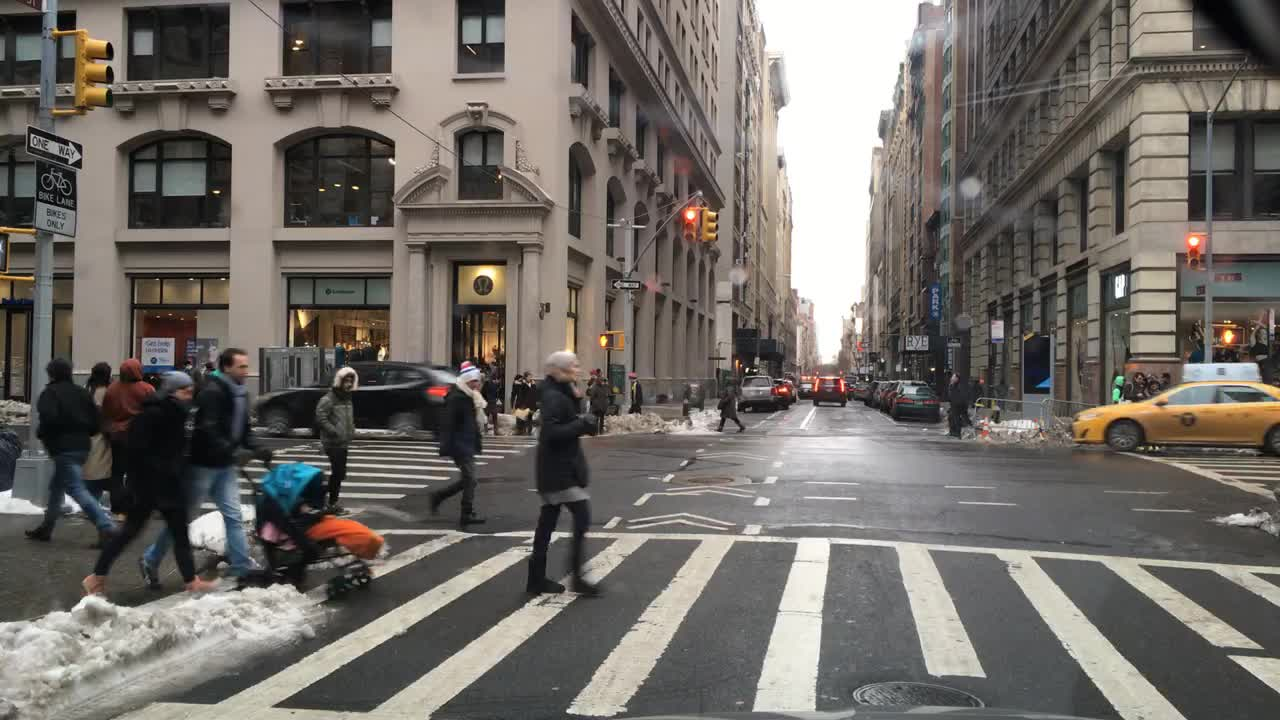bus: (842, 370, 860, 382)
car: (246, 358, 456, 442), (1066, 379, 1279, 457), (68, 368, 205, 455), (891, 378, 942, 424), (733, 372, 777, 411), (884, 377, 925, 415), (811, 373, 847, 409), (874, 381, 900, 411), (868, 378, 889, 409), (777, 376, 795, 401), (851, 381, 873, 401), (797, 378, 815, 400)
person: (79, 367, 223, 602), (136, 346, 274, 590), (21, 355, 122, 551), (522, 349, 600, 594), (423, 359, 490, 525), (95, 355, 154, 520), (313, 365, 359, 517), (79, 359, 113, 515), (715, 378, 745, 434), (943, 369, 966, 439), (480, 374, 504, 437), (515, 370, 536, 434), (1249, 341, 1274, 386), (591, 377, 609, 433), (626, 369, 644, 411), (1122, 373, 1146, 401), (183, 358, 201, 390), (967, 377, 984, 409), (1109, 374, 1127, 404), (508, 370, 521, 406), (1145, 370, 1162, 396), (993, 377, 1007, 406), (293, 498, 314, 514), (586, 367, 599, 391), (203, 360, 215, 381), (1162, 370, 1172, 387)
traffic light: (82, 35, 117, 109), (1218, 324, 1244, 350), (1185, 231, 1201, 269), (681, 207, 696, 244), (707, 209, 721, 244), (0, 230, 11, 273), (598, 331, 616, 350), (616, 331, 623, 351)
traffic sign: (31, 159, 79, 237), (22, 125, 84, 171), (609, 278, 641, 291), (1213, 271, 1242, 283), (947, 336, 962, 350), (1194, 283, 1205, 294)
